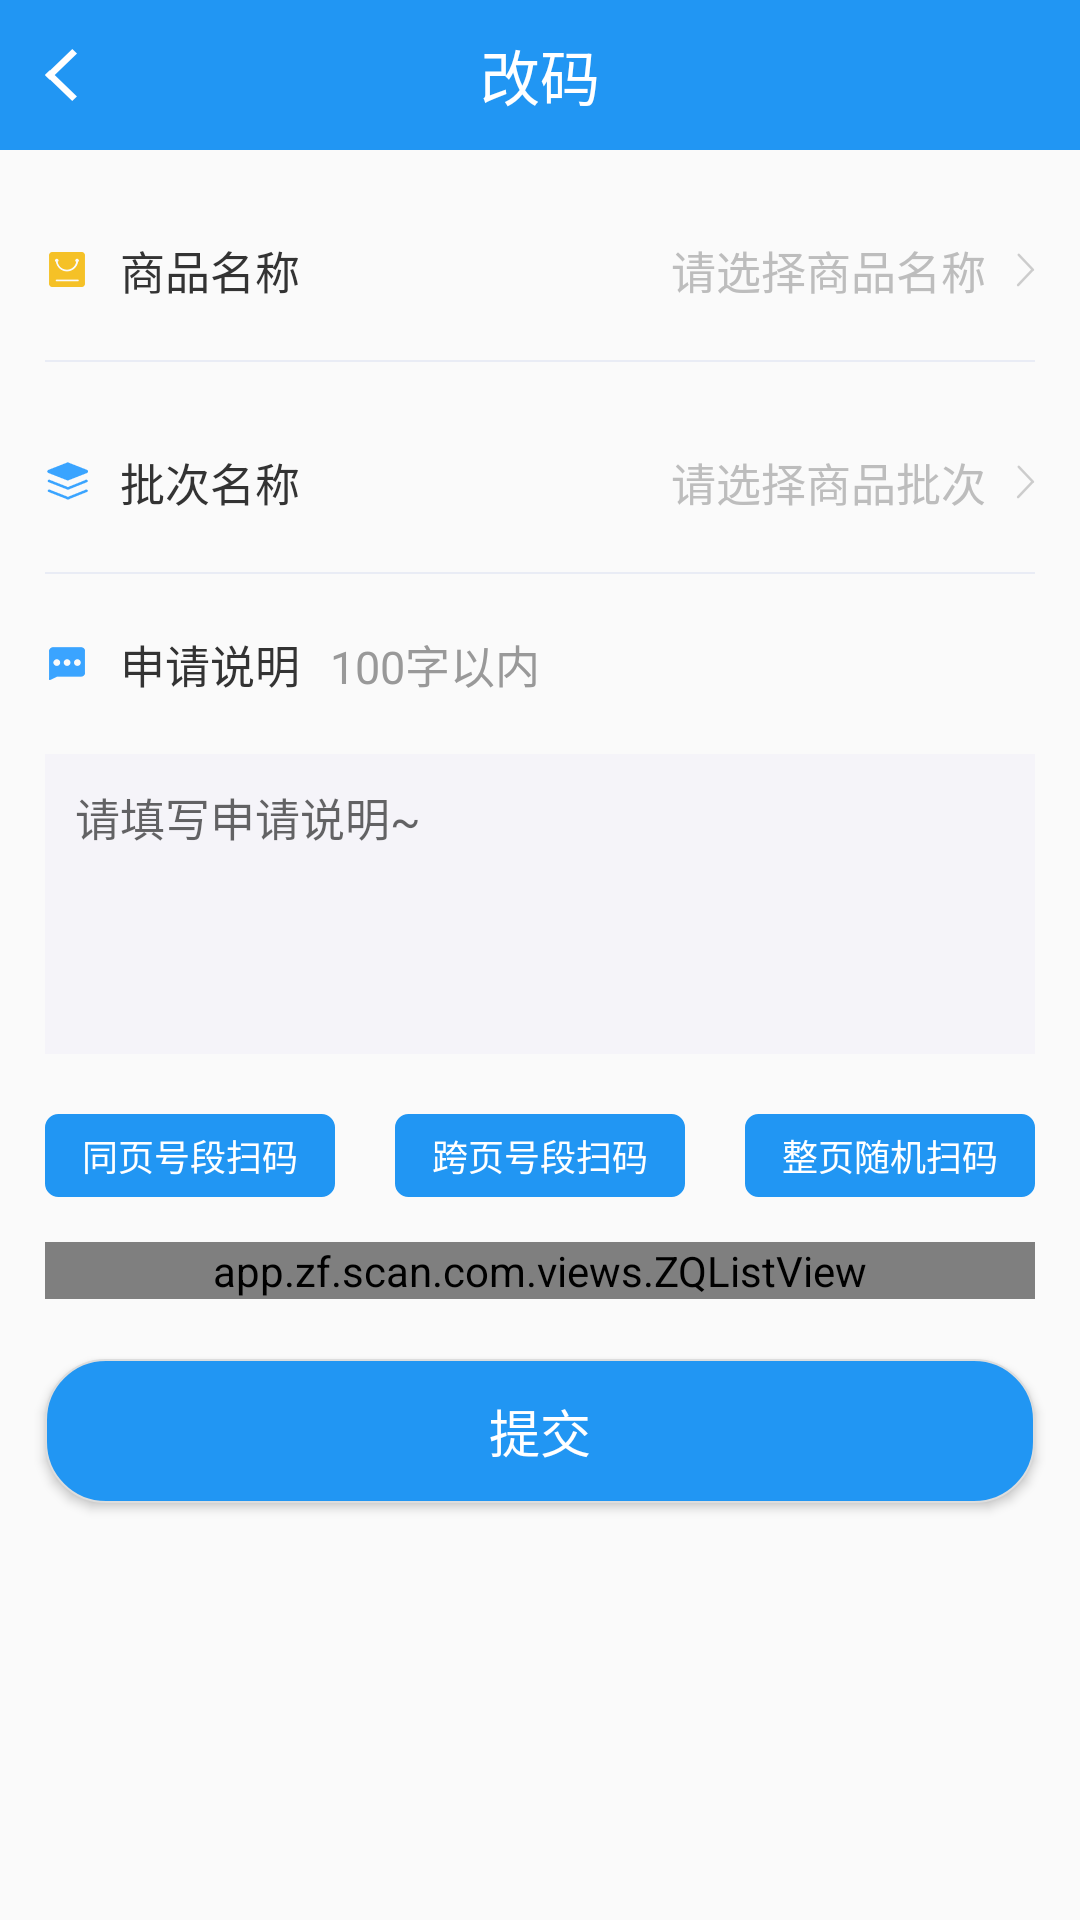

Screen size 1080px×1920px. Icon name, then its box in pixels as (left=x1, top=y1, right=x2, bottom=y2):
return: (left=45, top=49, right=77, bottom=101)
